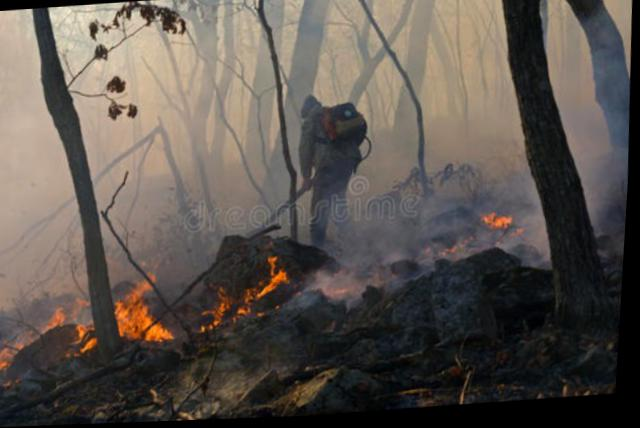fire: (0, 264, 179, 374), (203, 253, 297, 335), (439, 209, 527, 260)
